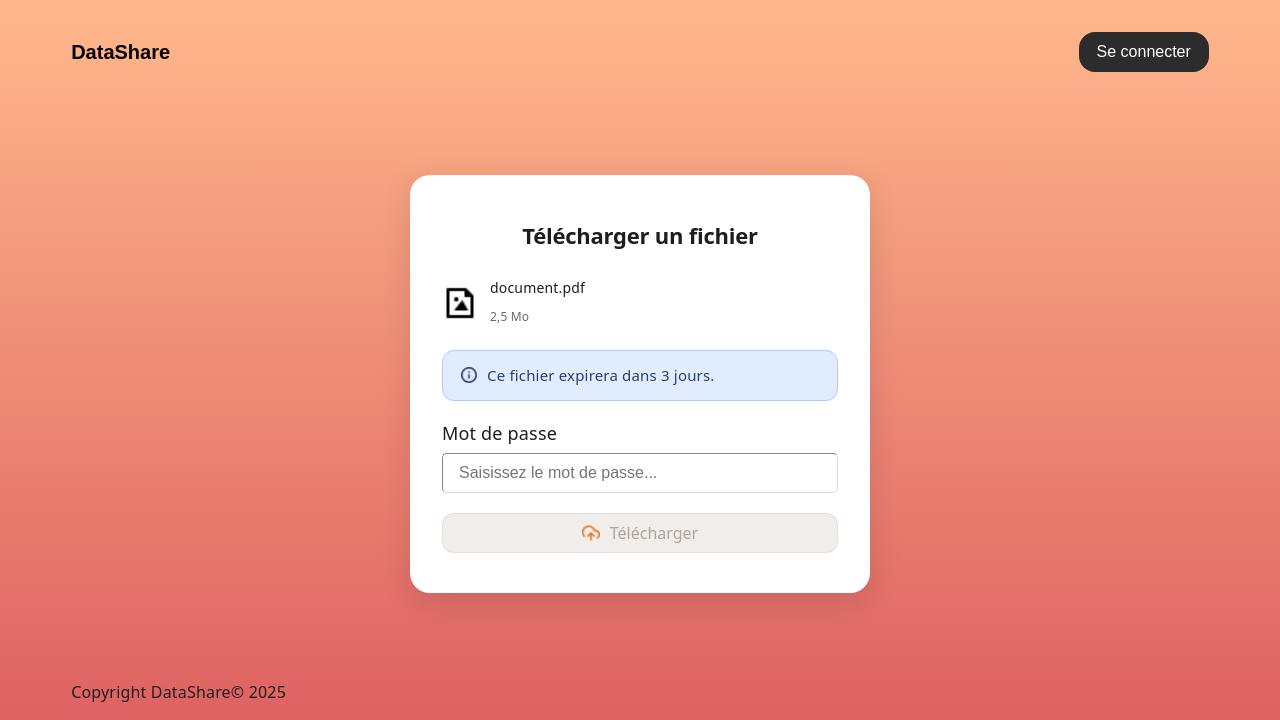
Test: Telechargement › Fichier protégé — avec mot de passe saisi › désactive à nouveau le bouton si le mot de passe est effacé
This screenshot has width=1280, height=720.
Type "secret" into the password field labelled "Mot de passe".
click(640, 473); type("secret")  # box [442,453,838,493]
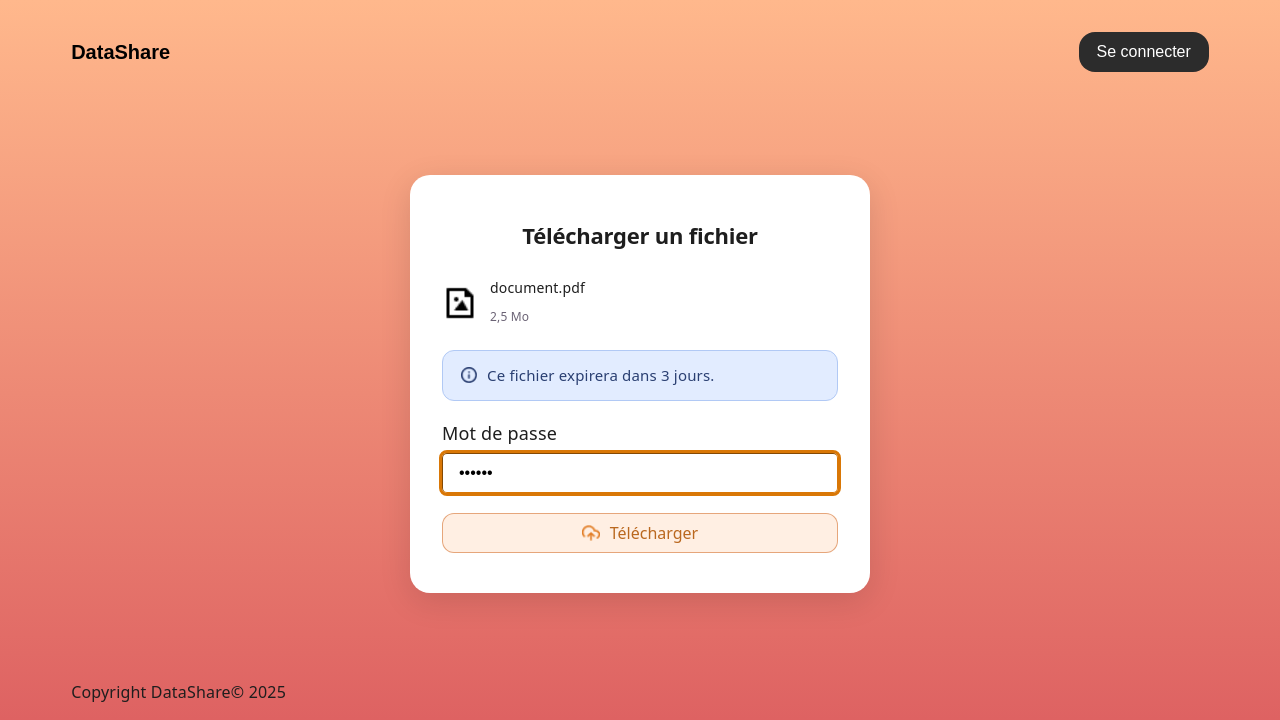
Expected: the text "Télécharger" is enabled
Clear the password field labelled "Mot de passe" at (640, 473), box [442,453,838,493]
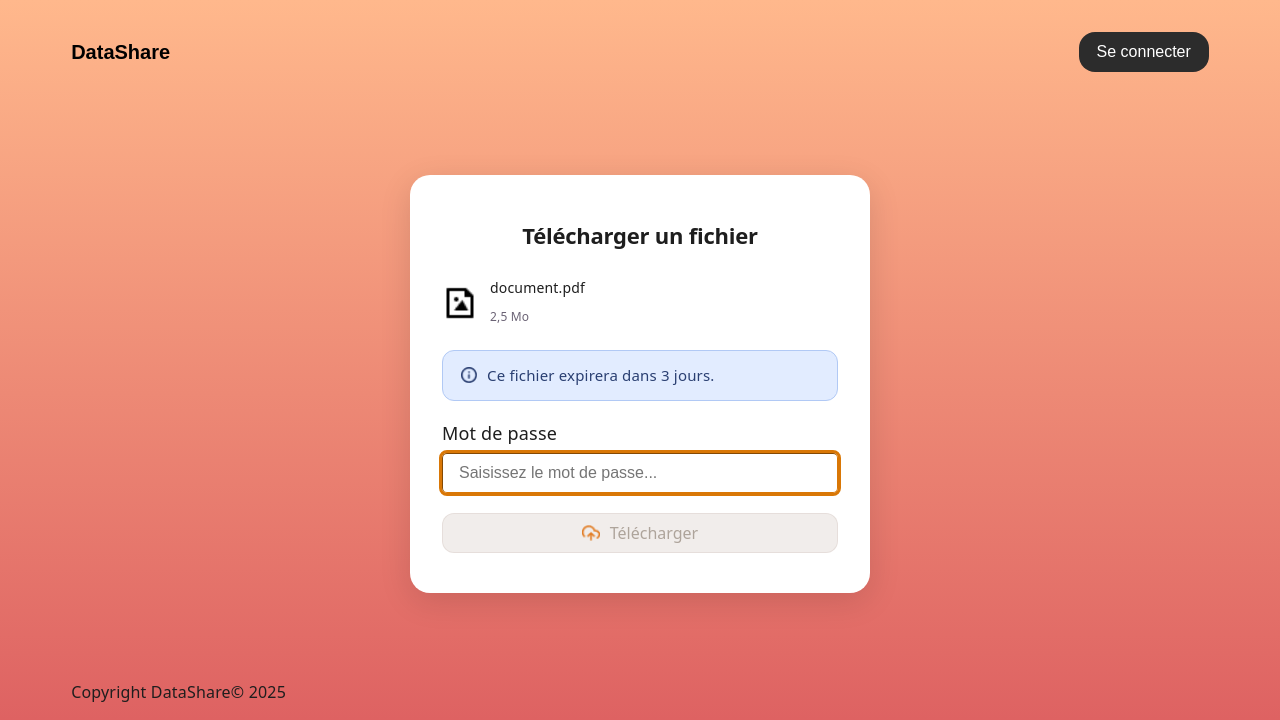
Now the button "Télécharger" is disabled, box [442,513,838,553]
